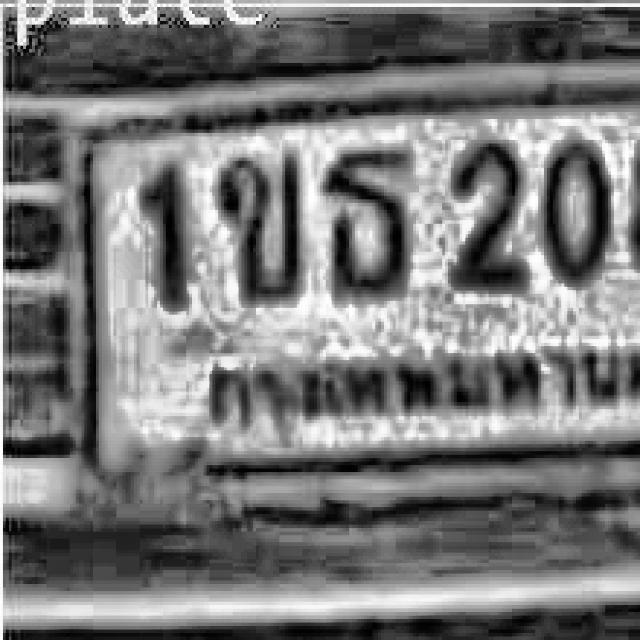license-plate: (60, 63, 640, 528)
